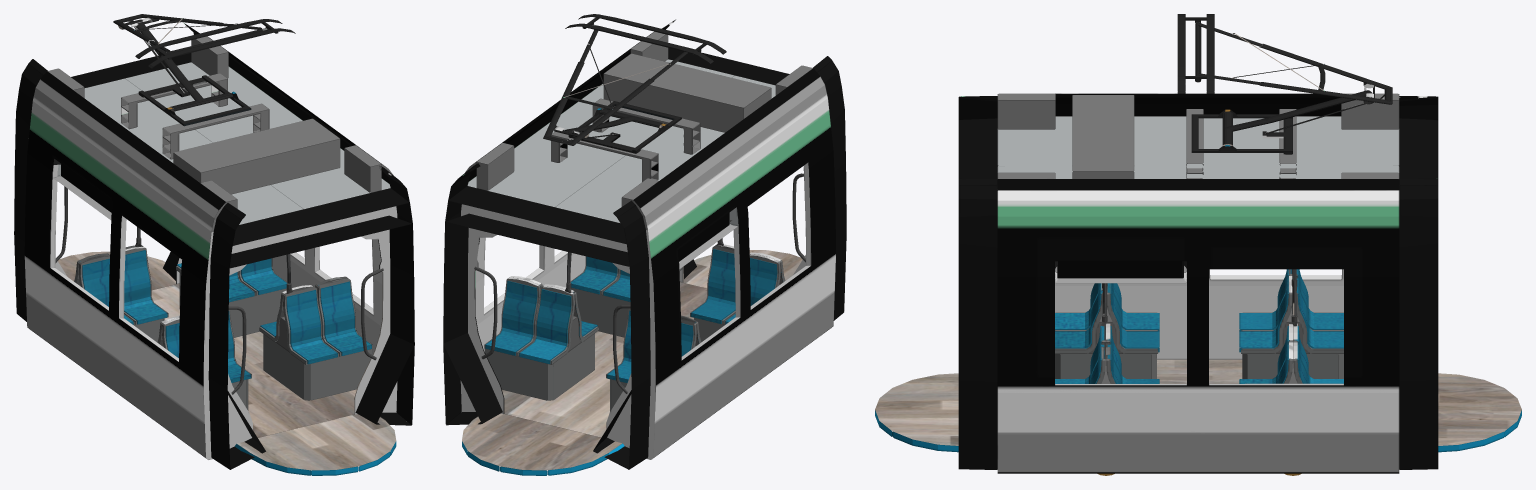
The model's file is articaf.obj.
The picture shows the model from 3 angles, left to right: view 1: azimuth 30°, elevation 25°; view 2: azimuth 150°, elevation 25°; view 3: azimuth 270°, elevation 25°; orthographic projection. The views are drawn at different scales.
Visible parts, largest first — view 1: ext, int, artic, intfloor, artic2floor, pantograph, artic2, displaydestination, display; view 2: ext, int, artic2, intfloor, artic2floor, pantograph, artic, displaydestination, display; view 3: ext, int, artic, artic2, intfloor, artic2floor, pantograph, displaydestination2, display.
Boxes of the visible parts, <box> form: ext: <box>24,36,392,457</box>; int: <box>55,78,397,459</box>; artic: <box>208,166,414,469</box>; intfloor: <box>50,164,382,437</box>; artic2floor: <box>58,251,396,475</box>; pantograph: <box>113,14,295,126</box>; artic2: <box>14,23,199,321</box>; displaydestination: <box>61,164,112,212</box>; display: <box>53,159,111,219</box>; ext: <box>465,31,835,457</box>; int: <box>460,75,805,459</box>; artic2: <box>443,163,650,469</box>; intfloor: <box>475,162,811,437</box>; artic2floor: <box>462,250,802,475</box>; pantograph: <box>543,14,726,153</box>; artic: <box>662,19,846,320</box>; displaydestination: <box>678,213,728,261</box>; display: <box>679,207,738,269</box>; ext: <box>997,93,1399,473</box>; int: <box>1055,269,1343,383</box>; artic: <box>958,96,997,469</box>; artic2: <box>1399,96,1438,469</box>; intfloor: <box>1055,269,1343,385</box>; artic2floor: <box>875,373,1521,452</box>; pantograph: <box>1177,14,1392,154</box>; displaydestination2: <box>1057,261,1182,278</box>; display: <box>1055,261,1186,283</box>.
Bounding box in the file's own units: 2.99 × 4.96 × 7.44.
3 materials, 3 textured.
